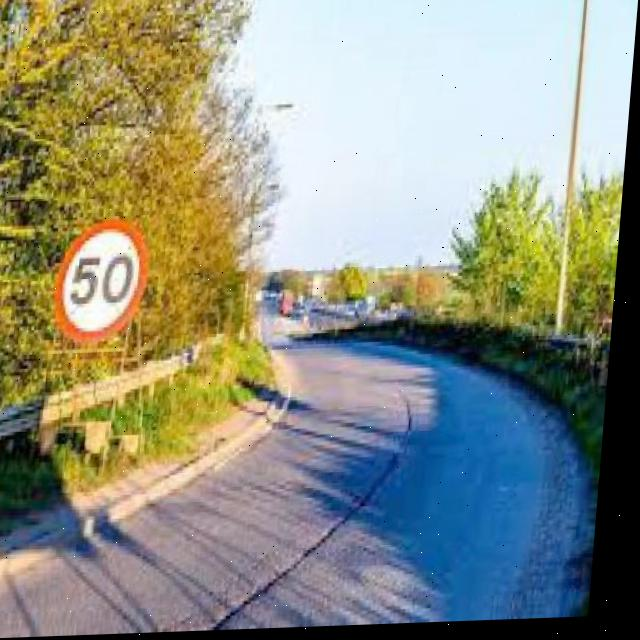Speed limit 50: (53, 216, 161, 348)
